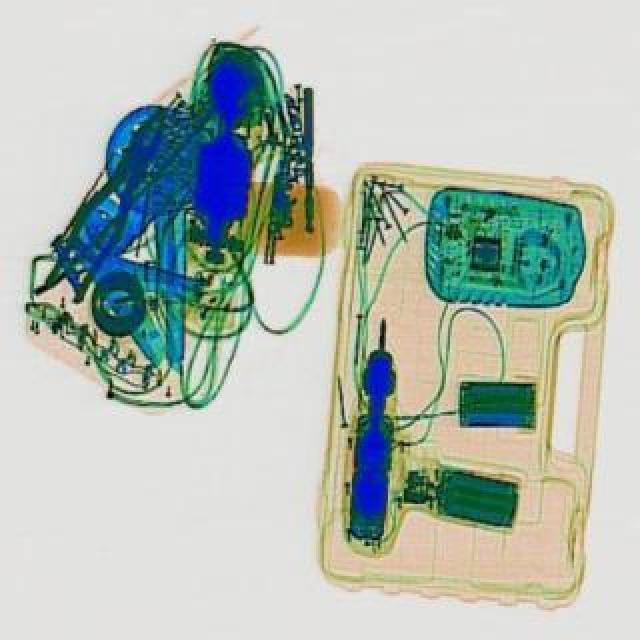wrench: (40, 102, 188, 310)
